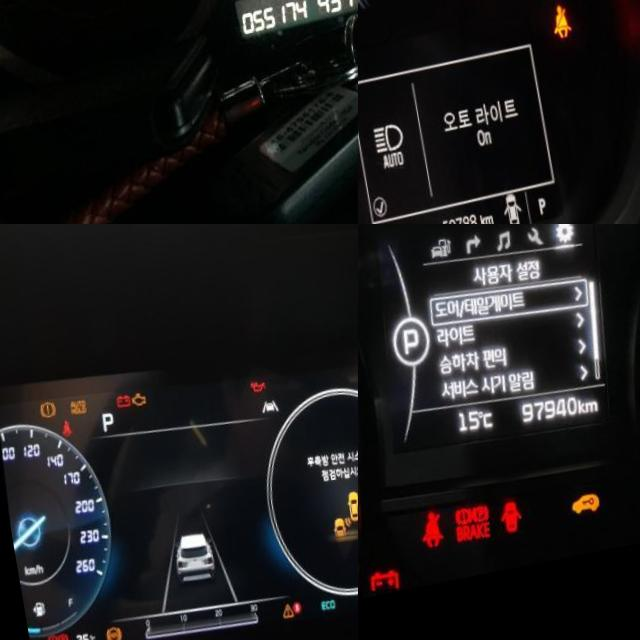Central Warning lamp: (264, 612, 278, 630)
Doors: (476, 514, 503, 551)
LaneCenteringOff: (251, 410, 271, 426)
SideLamp: (536, 0, 563, 16)
